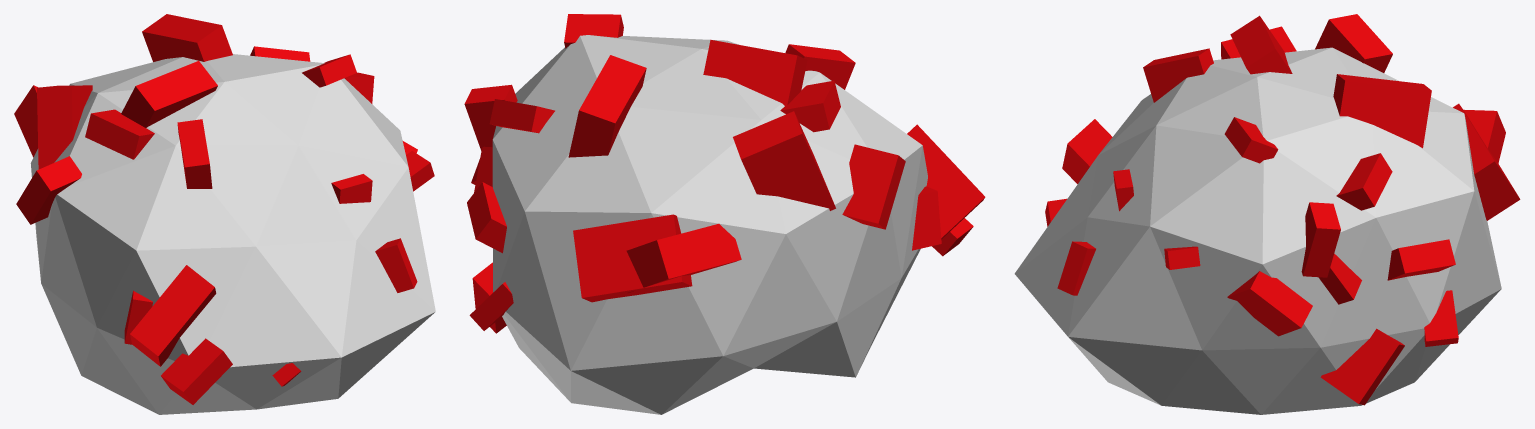
The model's file is ore.fbx.
The picture shows the model from 3 angles, left to right: view 1: azimuth 30°, elevation 25°; view 2: azimuth 150°, elevation 25°; view 3: azimuth 270°, elevation 25°; orthographic projection. The views are drawn at different scales.
Parts seen in each view (by area): view 1: Icosphere, Cube.018, Cube.009, Cube.006, Cube.005, Cube.019, Cube.017, Cube.010, Cube.011, Cube.020, Cube.016, Cube.012 (+6 smaller); view 2: Icosphere, Cube.015, Cube.005, Cube.006, Cube.016, Cube.009, Cube.017, Cube.018, Cube.010, Cube.014, Cube.007, Cube.011 (+7 smaller); view 3: Icosphere, Cube.006, Cube.024, Cube.003, Cube.005, Cube.015, Cube.007, Cube.009, Cube.011, Cube.014, Cube.008, Cube.018 (+8 smaller).
Part boxes in pixels (x1=…): Icosphere: x1=30, y1=54, x2=435, y2=414; Cube.018: x1=130, y1=265, x2=216, y2=366; Cube.009: x1=121, y1=61, x2=217, y2=127; Cube.006: x1=142, y1=14, x2=232, y2=61; Cube.005: x1=37, y1=85, x2=92, y2=169; Cube.019: x1=161, y1=338, x2=232, y2=404; Cube.017: x1=16, y1=156, x2=81, y2=224; Cube.010: x1=85, y1=109, x2=154, y2=159; Cube.011: x1=177, y1=119, x2=212, y2=188; Cube.020: x1=375, y1=238, x2=417, y2=292; Cube.016: x1=14, y1=85, x2=38, y2=157; Cube.012: x1=302, y1=54, x2=356, y2=87; Icosphere: x1=492, y1=35, x2=927, y2=414; Cube.015: x1=573, y1=214, x2=692, y2=302; Cube.005: x1=733, y1=111, x2=835, y2=210; Cube.006: x1=568, y1=55, x2=646, y2=157; Cube.016: x1=626, y1=223, x2=741, y2=293; Cube.009: x1=703, y1=39, x2=807, y2=105; Cube.017: x1=842, y1=144, x2=905, y2=229; Cube.018: x1=907, y1=124, x2=985, y2=239; Cube.010: x1=780, y1=80, x2=840, y2=132; Cube.014: x1=467, y1=182, x2=506, y2=253; Cube.007: x1=464, y1=84, x2=517, y2=150; Cube.011: x1=785, y1=44, x2=855, y2=89; Icosphere: x1=1014, y1=47, x2=1501, y2=414; Cube.006: x1=1333, y1=74, x2=1431, y2=148; Cube.024: x1=1227, y1=271, x2=1312, y2=336; Cube.003: x1=1320, y1=328, x2=1404, y2=405; Cube.005: x1=1315, y1=14, x2=1392, y2=72; Cube.015: x1=1453, y1=103, x2=1520, y2=220; Cube.007: x1=1301, y1=202, x2=1340, y2=277; Cube.009: x1=1230, y1=15, x2=1292, y2=74; Cube.011: x1=1143, y1=48, x2=1213, y2=102; Cube.014: x1=1387, y1=239, x2=1455, y2=280; Cube.008: x1=1336, y1=153, x2=1392, y2=210; Cube.018: x1=1062, y1=119, x2=1112, y2=183.
Bounding box in the file's own units: 236 × 177 × 267.
